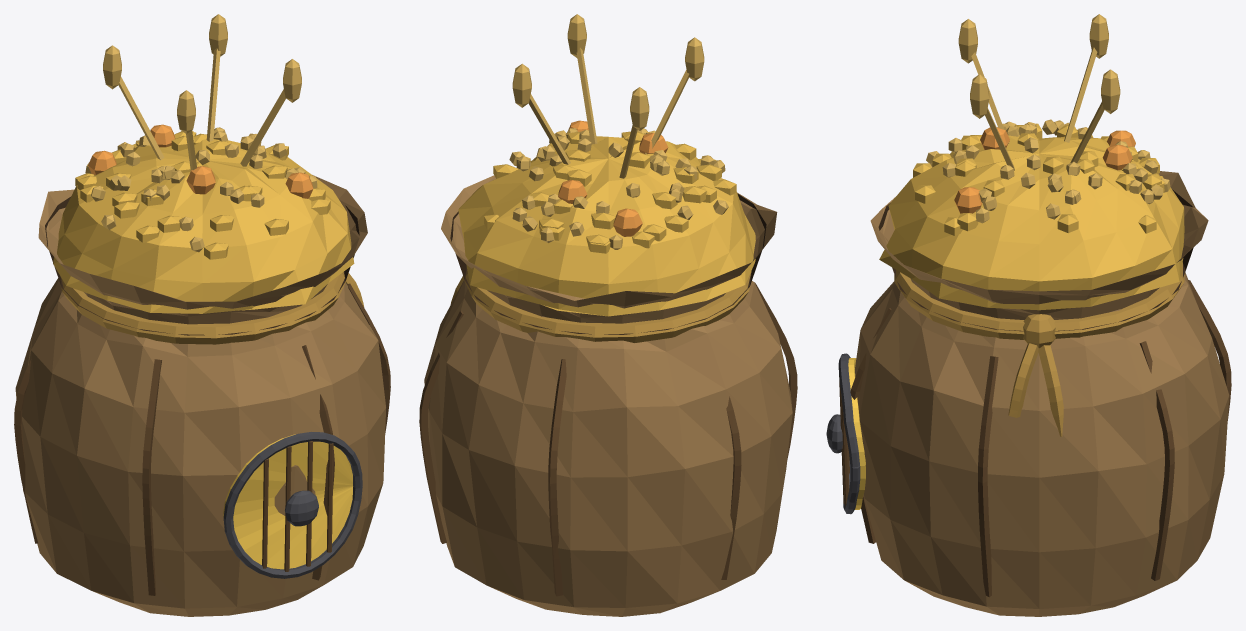
The model's file is VFP_Feed_ArmorGrain.obj.
3 views of the same model, side by side, from view 1: azimuth 30°, elevation 25°; view 2: azimuth 150°, elevation 25°; view 3: azimuth 270°, elevation 25° (orthographic).
Parts seen in each view (by area): view 1: Sack, Feed, Symbol, Cord, Symbol_iron, Ears, Folds, Grain, Symbol_sack_dark, Berries, SackInner; view 2: Sack, Feed, Folds, Cord, Ears, Grain, Berries, SackInner; view 3: Sack, Feed, Cord, Folds, Grain, Ears, Symbol_iron, Berries, Symbol, SackInner, Symbol_sack_dark.
Part boxes in pixels (box(x1,y1,x2,y2)): Sack: box(15, 175, 385, 616); Feed: box(53, 131, 354, 313); Symbol: box(223, 434, 352, 569); Cord: box(61, 272, 364, 344); Symbol_iron: box(223, 432, 362, 578); Ears: box(103, 14, 301, 170); Folds: box(14, 283, 390, 595); Grain: box(85, 127, 317, 252); Symbol_sack_dark: box(262, 441, 333, 571); Berries: box(88, 124, 313, 198); SackInner: box(45, 197, 359, 335); Sack: box(424, 175, 792, 616); Feed: box(458, 131, 755, 316); Folds: box(419, 282, 797, 596); Cord: box(450, 270, 751, 342); Ears: box(512, 14, 704, 178); Grain: box(509, 128, 728, 249); Berries: box(558, 120, 668, 236); SackInner: box(450, 194, 766, 334); Sack: box(855, 166, 1229, 616); Feed: box(879, 123, 1184, 310); Cord: box(894, 262, 1184, 436); Folds: box(850, 280, 1231, 597); Grain: box(926, 119, 1170, 223); Ears: box(958, 14, 1120, 170); Symbol_iron: box(826, 353, 860, 514); Berries: box(954, 127, 1135, 213); Symbol: box(848, 358, 865, 509); SackInner: box(878, 189, 1193, 331); Symbol_sack_dark: box(839, 375, 849, 506).
Bounding box in the file's own units: 0.269 × 0.4077 × 0.2879.
